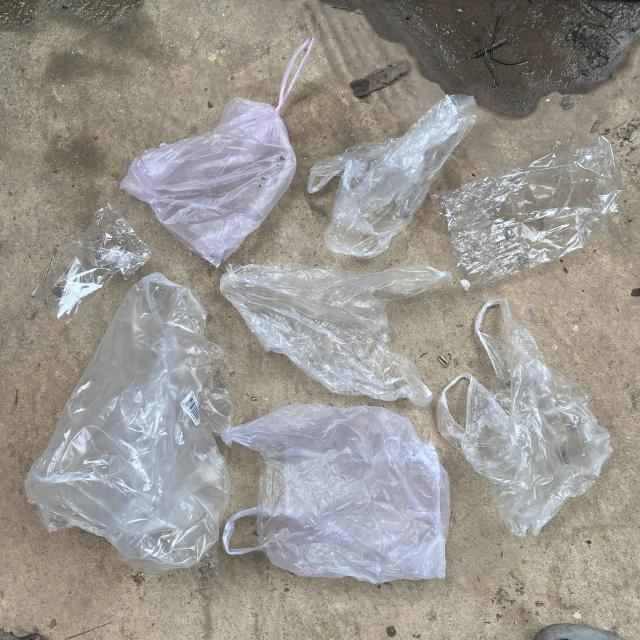Single-layer Plastic: (25, 272, 232, 572), (120, 38, 314, 266), (222, 404, 450, 584), (438, 299, 611, 536), (220, 265, 451, 406), (432, 136, 622, 290), (308, 95, 478, 258), (34, 202, 151, 325)
